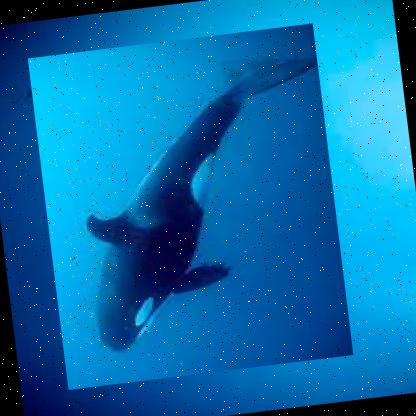killer_whale: (26, 22, 352, 390)
